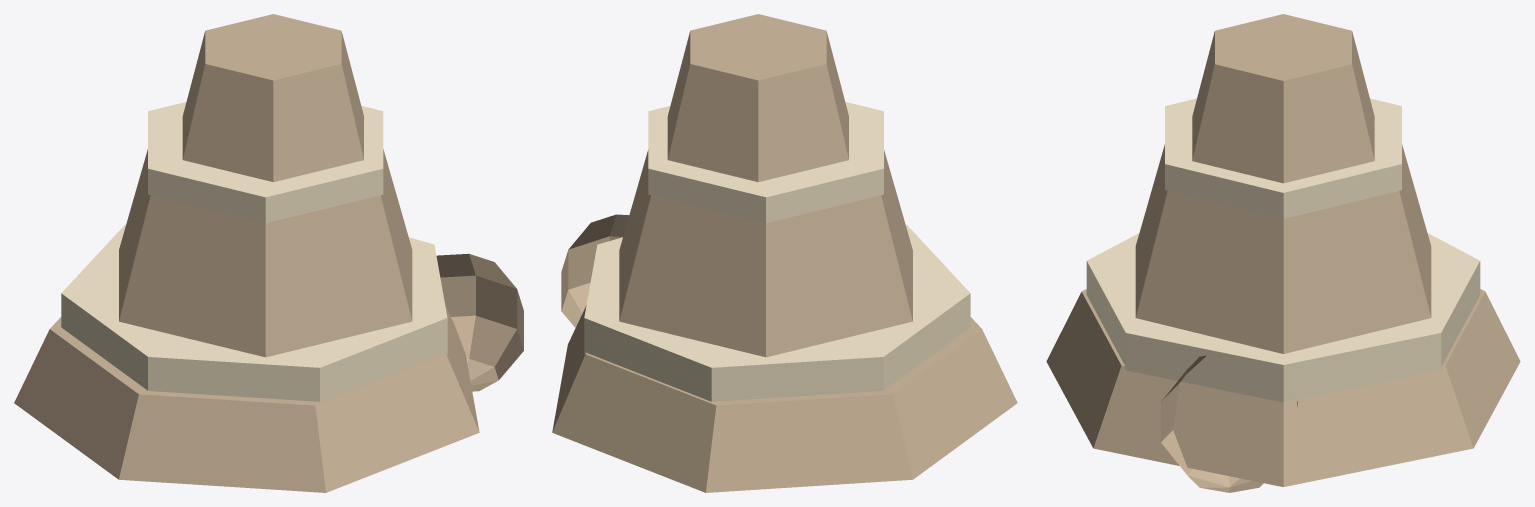
The model's file is frontier-sandstone-outcrop__133.glb.
3 views of the same model, side by side, from view 1: azimuth 30°, elevation 25°; view 2: azimuth 150°, elevation 25°; view 3: azimuth 270°, elevation 25° (orthographic).
Parts seen in each view (by area): view 1: frontier-post-sandstone-outcrop; view 2: frontier-post-sandstone-outcrop; view 3: frontier-post-sandstone-outcrop.
Boxes of the visible parts, bbox=[...] form: frontier-post-sandstone-outcrop: bbox=[14, 14, 523, 492]; frontier-post-sandstone-outcrop: bbox=[552, 14, 1017, 492]; frontier-post-sandstone-outcrop: bbox=[1046, 14, 1520, 492].
Bounding box in the file's own units: 2.74 × 2.22 × 2.63.
